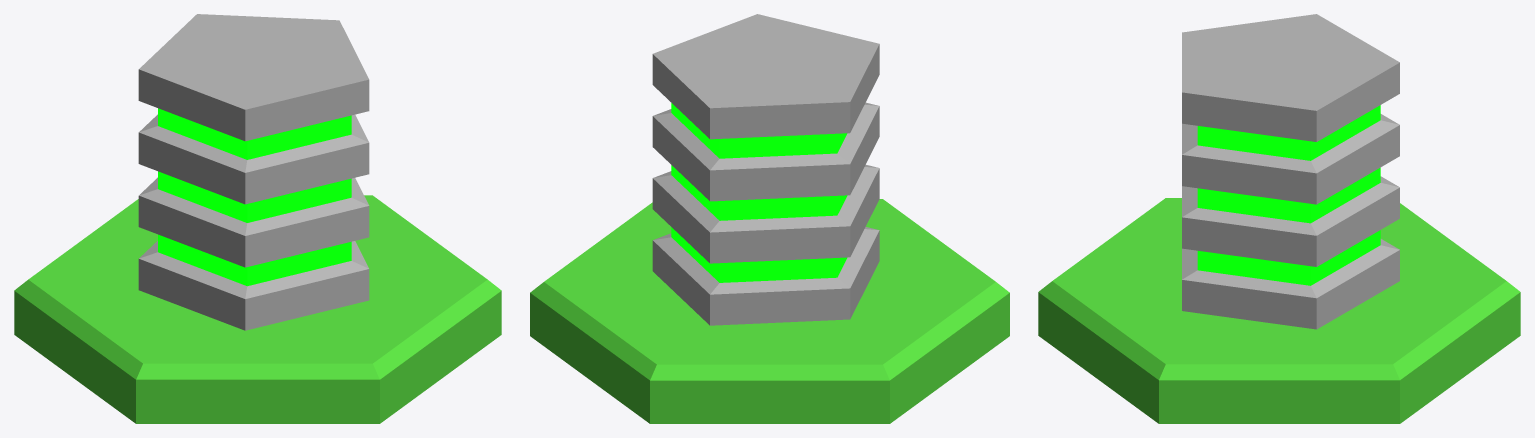
Rendered from tile_food_nextgen.fbx.
The picture shows the model from 3 angles, left to right: view 1: azimuth 30°, elevation 25°; view 2: azimuth 150°, elevation 25°; view 3: azimuth 270°, elevation 25°; orthographic projection.
Visible parts, largest first — view 1: Farm, Pad; view 2: Farm, Pad; view 3: Pad, Farm.
Part boxes in pixels (x1,y1,x2,y2): Farm: [138, 14, 369, 330]; Pad: [14, 195, 501, 423]; Farm: [652, 14, 879, 325]; Pad: [530, 199, 1009, 423]; Pad: [1038, 198, 1520, 423]; Farm: [1182, 14, 1399, 329].
Bounding box in the file's own units: 346 × 250 × 400.
